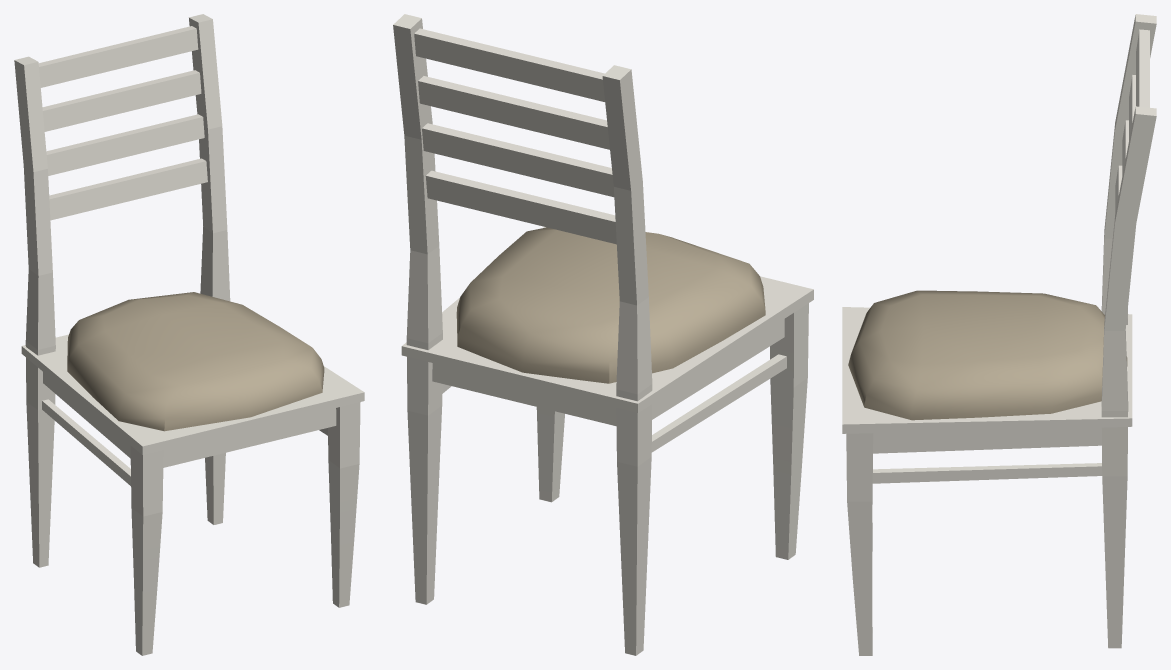
Rendered from pk_chair_cush_white.glb.
3 renders of one model, left to right at view 1: azimuth 30°, elevation 25°; view 2: azimuth 150°, elevation 25°; view 3: azimuth 270°, elevation 25°, orthographic. The views are drawn at different scales.
Visible parts, largest first — view 1: pk_chair_cush_white; view 2: pk_chair_cush_white; view 3: pk_chair_cush_white.
Boxes of the visible parts, x1,y1,x2,y2 form: pk_chair_cush_white: [14, 14, 364, 655]; pk_chair_cush_white: [393, 14, 813, 655]; pk_chair_cush_white: [842, 14, 1156, 655].
Size of the model in its own units: 0.46 by 0.98 by 0.52.
1 material, 1 textured.
